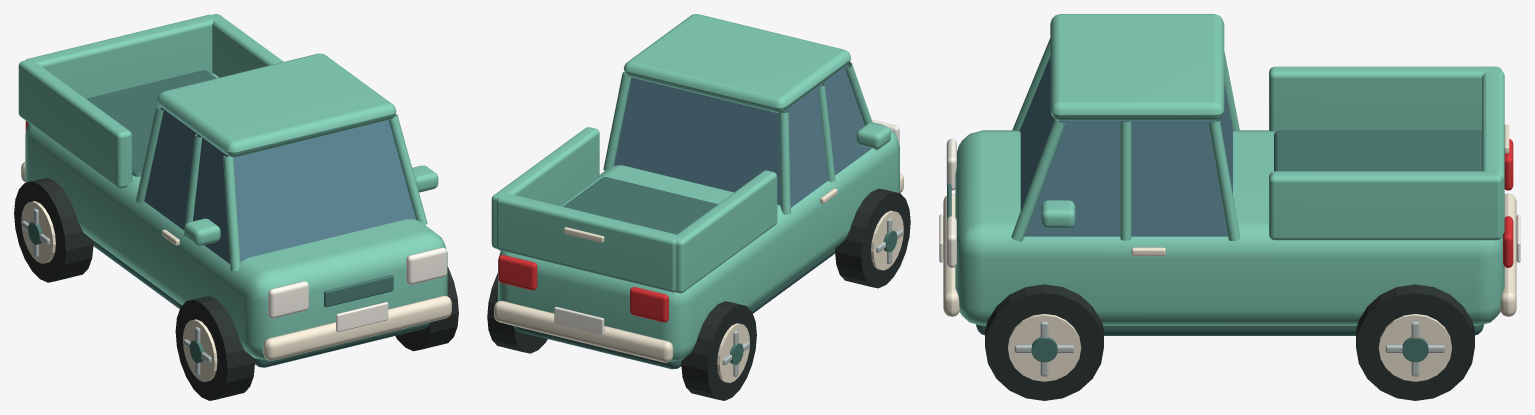
Rendered from car-pickup.glb.
3 renders of one model, left to right at view 1: azimuth 30°, elevation 25°; view 2: azimuth 150°, elevation 25°; view 3: azimuth 270°, elevation 25°, orthographic. The views are drawn at different scales.
Visible parts, largest first — view 1: bed side.001, cabin glazing, front grille.002, rubber tyre.008, rubber tyre.009, bumper.003, headlight.002, rubber tyre.010, wheel rim.008, wheel rim.009; view 2: bed side.001, cabin glazing, front grille.002, bumper.003, rubber tyre.008, rubber tyre.009, tail light.002, rubber tyre.011, wheel rim.009, headlight.002, wheel rim.008; view 3: bed side.001, cabin glazing, front grille.002, rubber tyre.010, rubber tyre.011, wheel rim.010, wheel rim.011, bumper.003, headlight.002, tail light.002, rim spoke.012, rim spoke.014 (+2 smaller).
Part boxes in pixels (x1,y1,x2,y2): bed side.001: (18,14,447,359); cabin glazing: (144,107,415,263); front grille.002: (86,70,430,367); rubber tyre.008: (175,296,254,400); rubber tyre.009: (14,178,93,282); bumper.003: (21,162,451,360); headlight.002: (268,247,447,332); rubber tyre.010: (395,266,458,351); wheel rim.008: (183,319,217,381); wheel rim.009: (21,201,55,263); bed side.001: (491,14,899,361); cabin glazing: (614,65,871,207); front grille.002: (514,177,835,369); bumper.003: (494,173,903,362); rubber tyre.008: (835,188,910,288); rubber tyre.009: (681,301,756,400); tail light.002: (498,255,668,322); rubber tyre.011: (487,273,547,353); wheel rim.009: (717,323,749,382); headlight.002: (554,119,899,335); wheel rim.008: (871,210,903,270); bed side.001: (955,14,1504,325); cabin glazing: (1019,57,1233,236); front grille.002: (947,130,1483,335); rubber tyre.010: (985,284,1103,400); rubber tyre.011: (1356,284,1474,400); wheel rim.010: (1008,314,1081,381); wheel rim.011: (1378,314,1451,381); bumper.003: (943,124,1516,316); headlight.002: (939,138,1520,267); tail light.002: (1503,139,1513,267); rim spoke.012: (1014,321,1074,376); rim spoke.014: (1385,321,1445,376).
Bounding box in the file's own units: 1.41 × 1.34 × 2.54.
